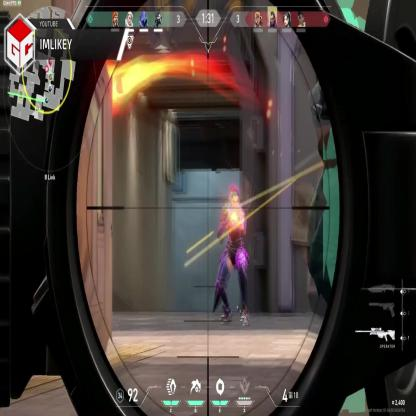enemy: (215, 189, 250, 331)
enemy_head: (229, 187, 239, 211)
